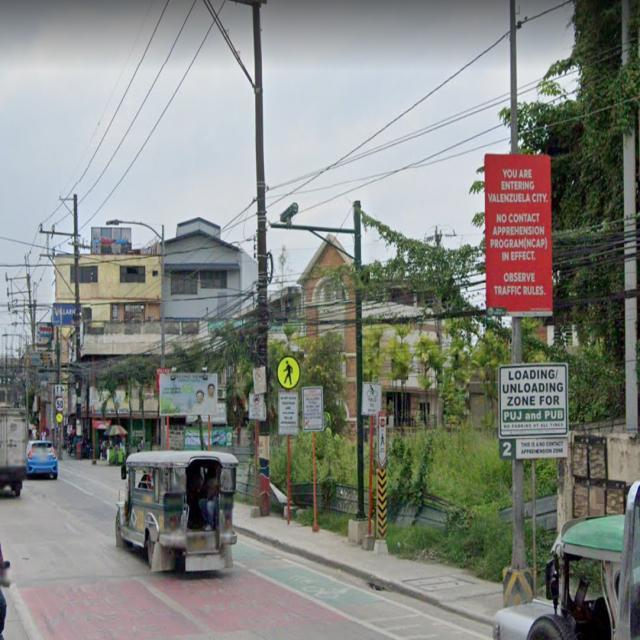50 kph: (53, 395, 69, 412)
pedestrian crossing: (275, 351, 303, 392)
